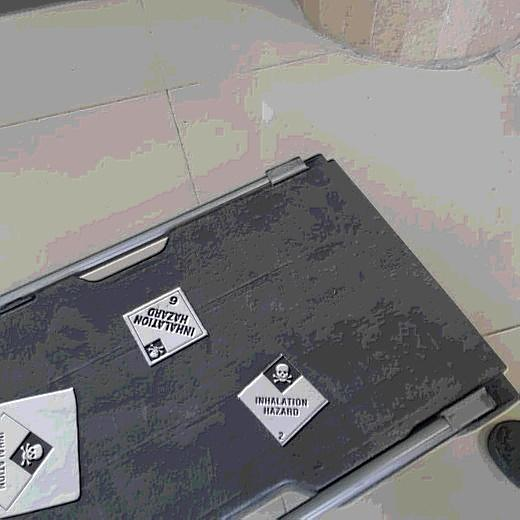poison: (235, 352, 332, 446), (123, 284, 212, 368), (1, 411, 54, 512)
